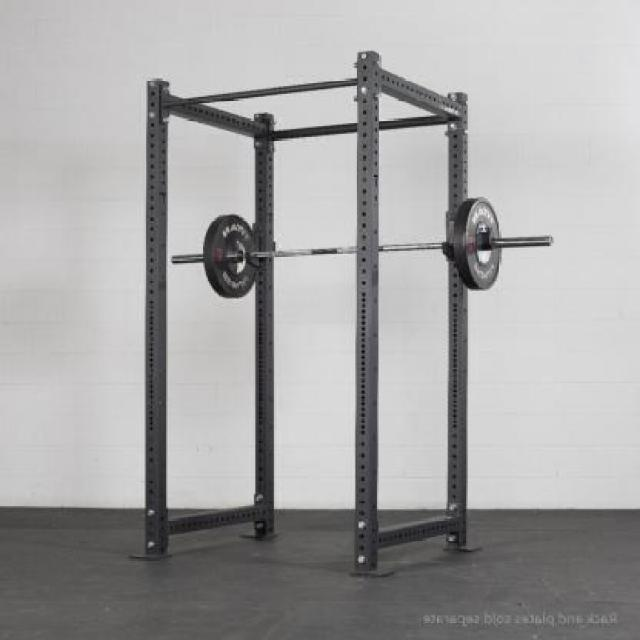Barbell: (532, 226, 566, 260)
